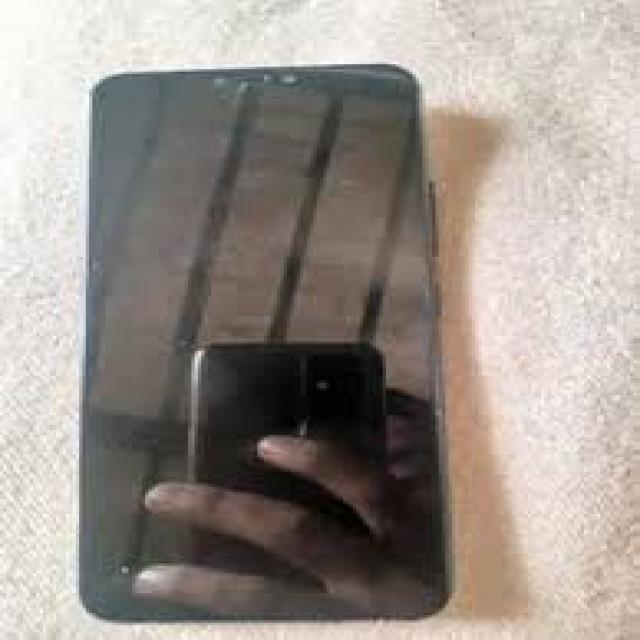mobile phone: (76, 59, 452, 623)
